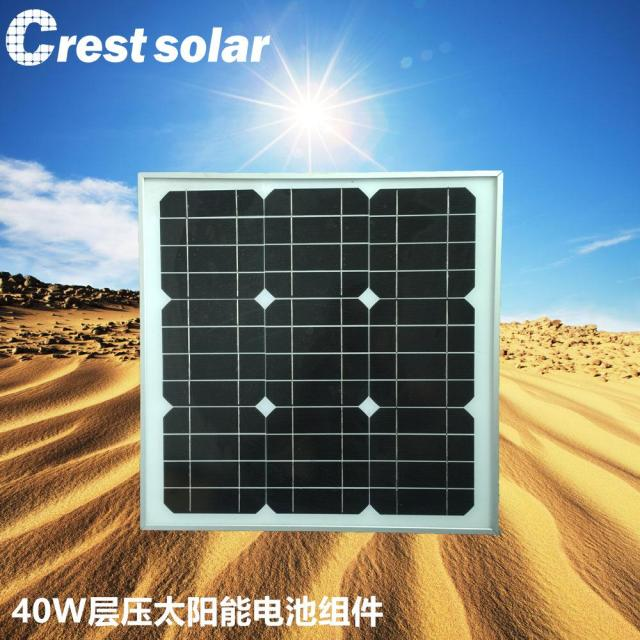clean-solar-panel: (160, 185, 478, 515)
